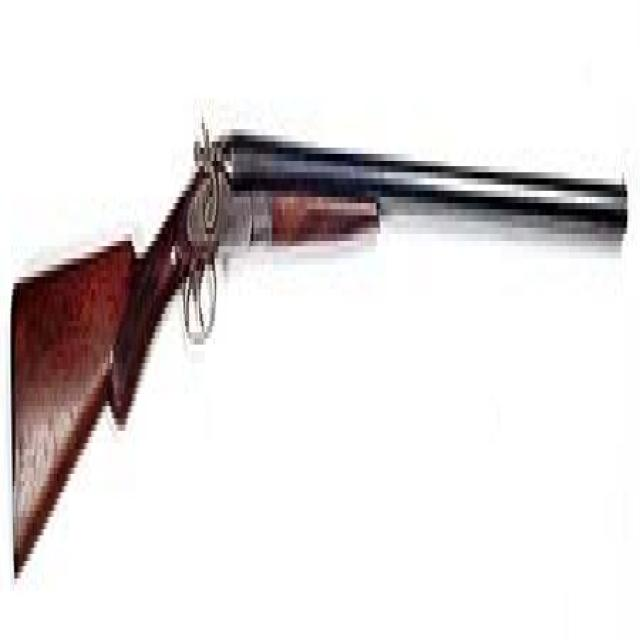rifle: (10, 101, 636, 604)
